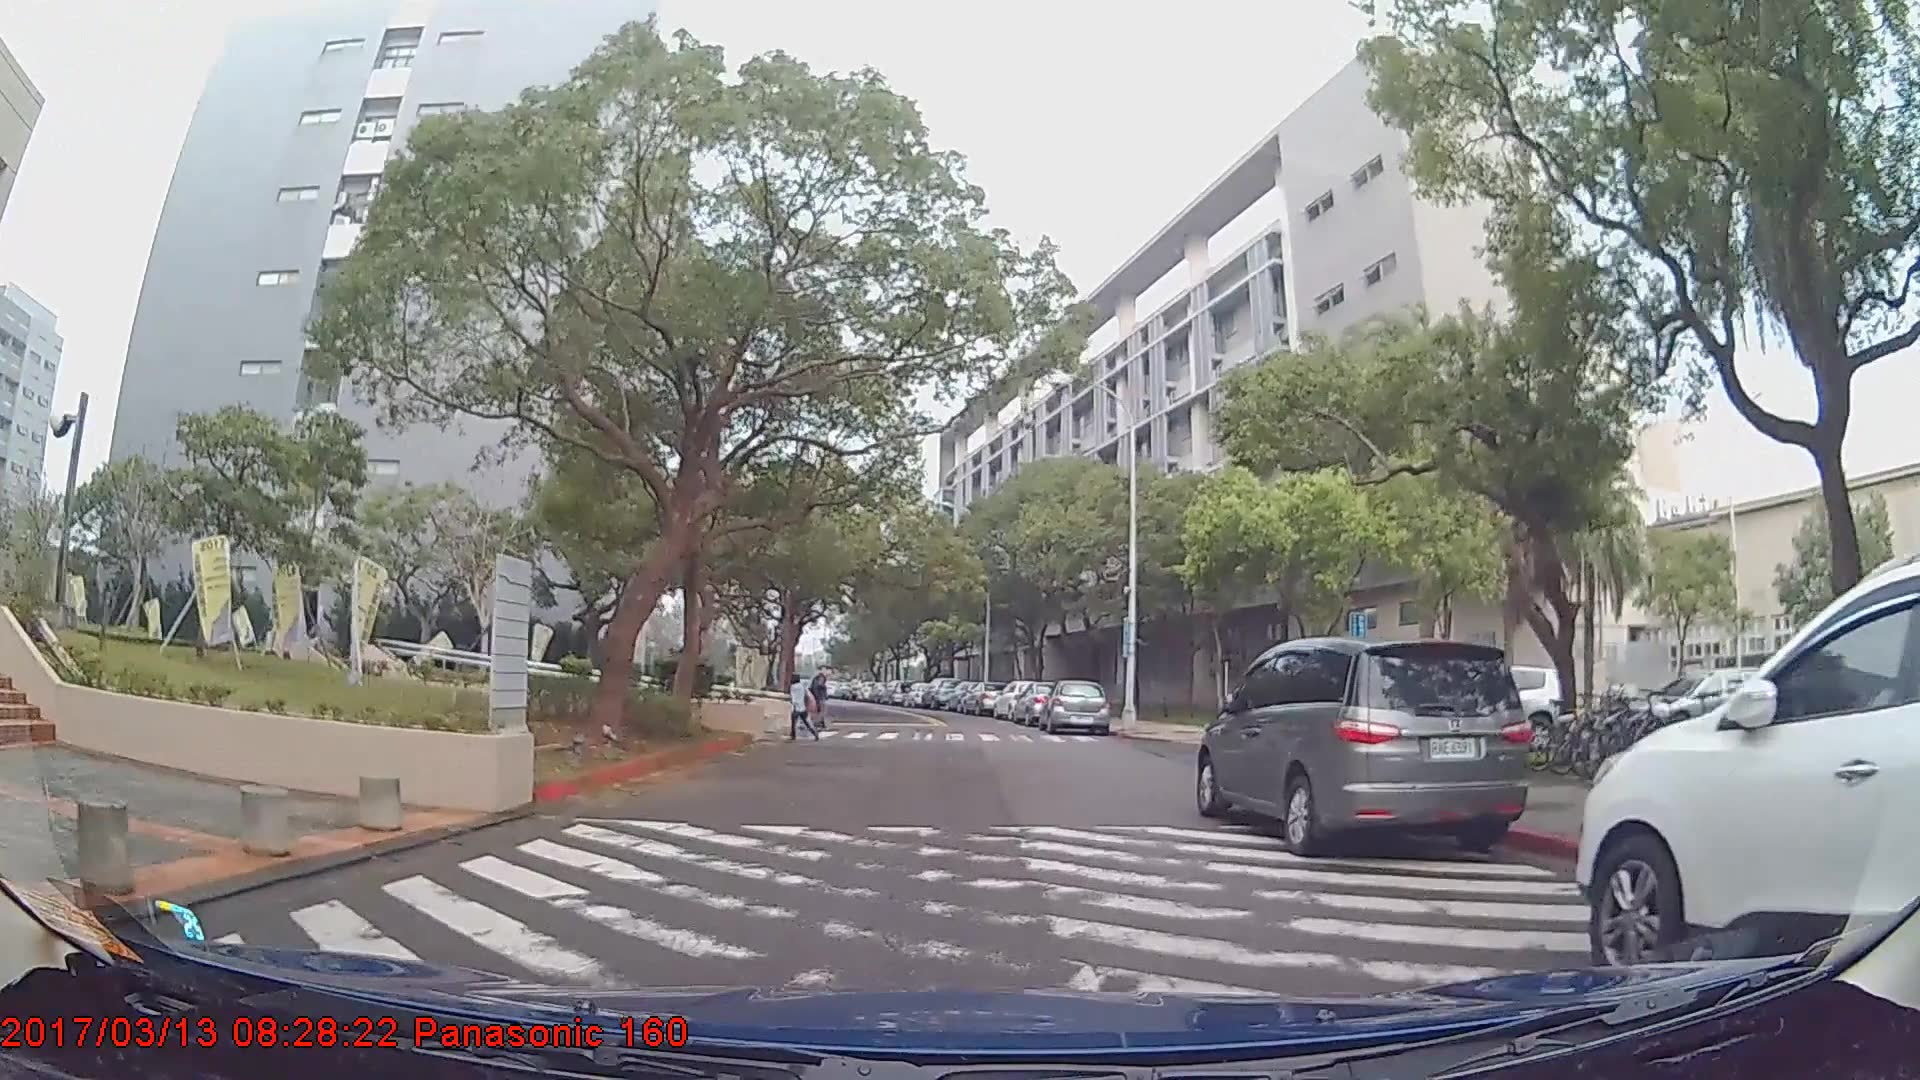pedestrian: (789, 675, 818, 743), (810, 661, 836, 732)
vehicle: (1573, 555, 1920, 983), (1198, 635, 1535, 861), (1650, 666, 1786, 744), (1044, 678, 1110, 734), (921, 676, 961, 709), (964, 682, 1005, 714)
